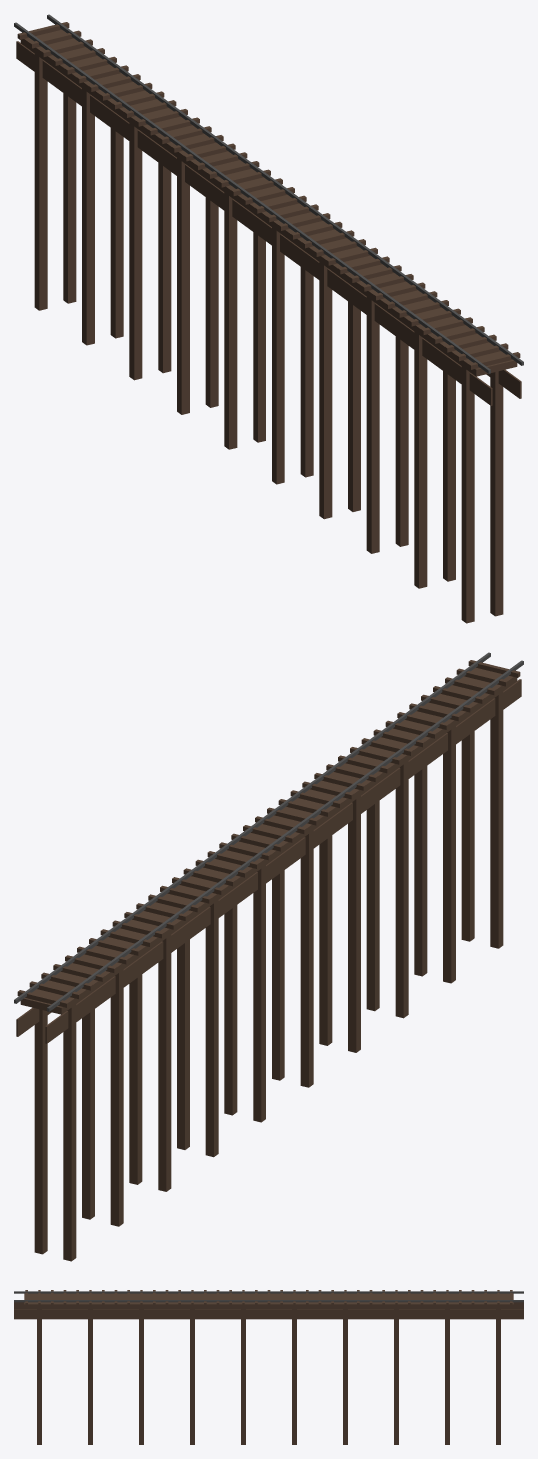
File: RailBridge.fbx
3 views of the same model, one above another, from view 1: azimuth 30°, elevation 25°; view 2: azimuth 150°, elevation 25°; view 3: azimuth 270°, elevation 25° (orthographic). The views are drawn at different scales.
Parts seen in each view (by area): view 1: Supports1, Supports2, Tracks, Base, Brace, Rail2, Rail1; view 2: Supports1, Supports2, Tracks, Base, Brace, Rail2, Rail1; view 3: Supports2, Base, Brace2, Tracks, Rail1, Rail2, Brace.
Boxes of the visible parts, box(x1,y1,x2,y2) form: Supports1: box(34, 54, 474, 623); Supports2: box(63, 93, 503, 616); Tracks: box(17, 22, 520, 369); Base: box(20, 30, 517, 376); Brace: box(16, 41, 492, 405); Rail2: box(47, 14, 523, 365); Rail1: box(14, 22, 490, 373); Supports1: box(63, 692, 503, 1261); Supports2: box(34, 731, 474, 1254); Tracks: box(17, 660, 520, 1007); Base: box(20, 668, 517, 1014); Brace: box(45, 679, 521, 1043); Rail2: box(14, 652, 490, 1003); Rail1: box(47, 660, 523, 1011); Supports2: box(37, 1308, 500, 1444); Base: box(24, 1293, 513, 1307); Brace2: box(14, 1309, 523, 1319); Tracks: box(25, 1290, 512, 1305); Rail1: box(14, 1291, 523, 1293); Rail2: box(14, 1300, 523, 1302); Brace: box(14, 1302, 523, 1309).
Size of the model in its own units: 600 by 3120 by 10000.
